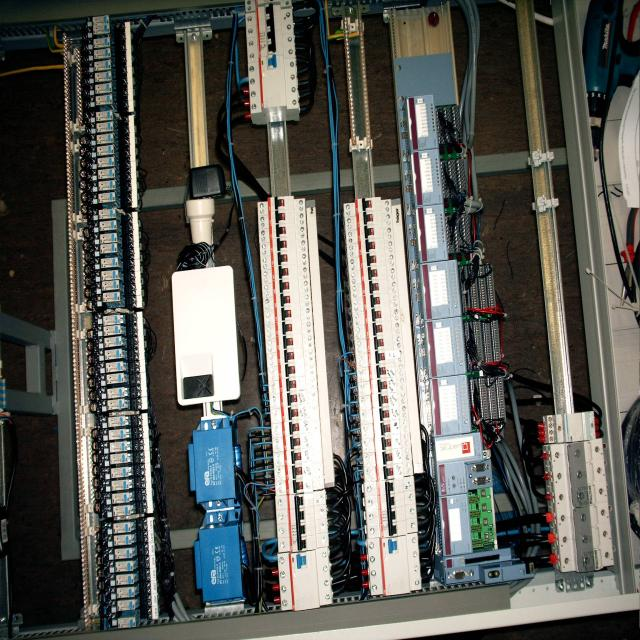Klemmenleiste: (82, 518, 158, 629), (76, 415, 153, 516), (72, 313, 148, 411), (68, 211, 144, 307), (64, 117, 141, 211), (62, 17, 135, 114)
Leitungsschutzschalter: (268, 380, 334, 488), (262, 285, 326, 379), (352, 295, 406, 395), (343, 202, 399, 292), (257, 201, 318, 281), (358, 399, 415, 479), (278, 552, 333, 609), (367, 537, 421, 594), (248, 63, 300, 122), (276, 494, 329, 551), (364, 481, 418, 535), (246, 12, 295, 62)
Relais: (192, 513, 248, 608), (186, 419, 242, 510)
Schaltkasten: (35, 0, 620, 640)
